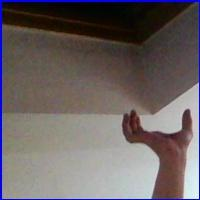space: (114, 102, 197, 151)
